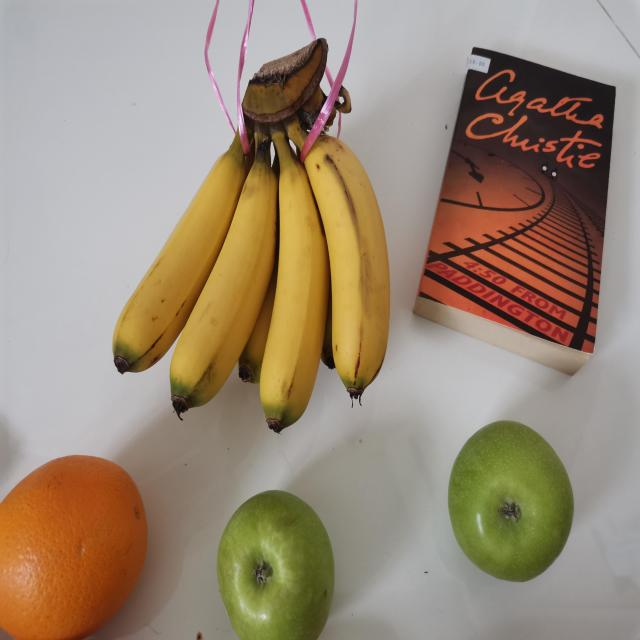Apple: (444, 418, 576, 586), (214, 485, 335, 640)
Banana: (108, 38, 394, 433)
Book: (410, 48, 618, 378)
Orange: (0, 456, 149, 640)
